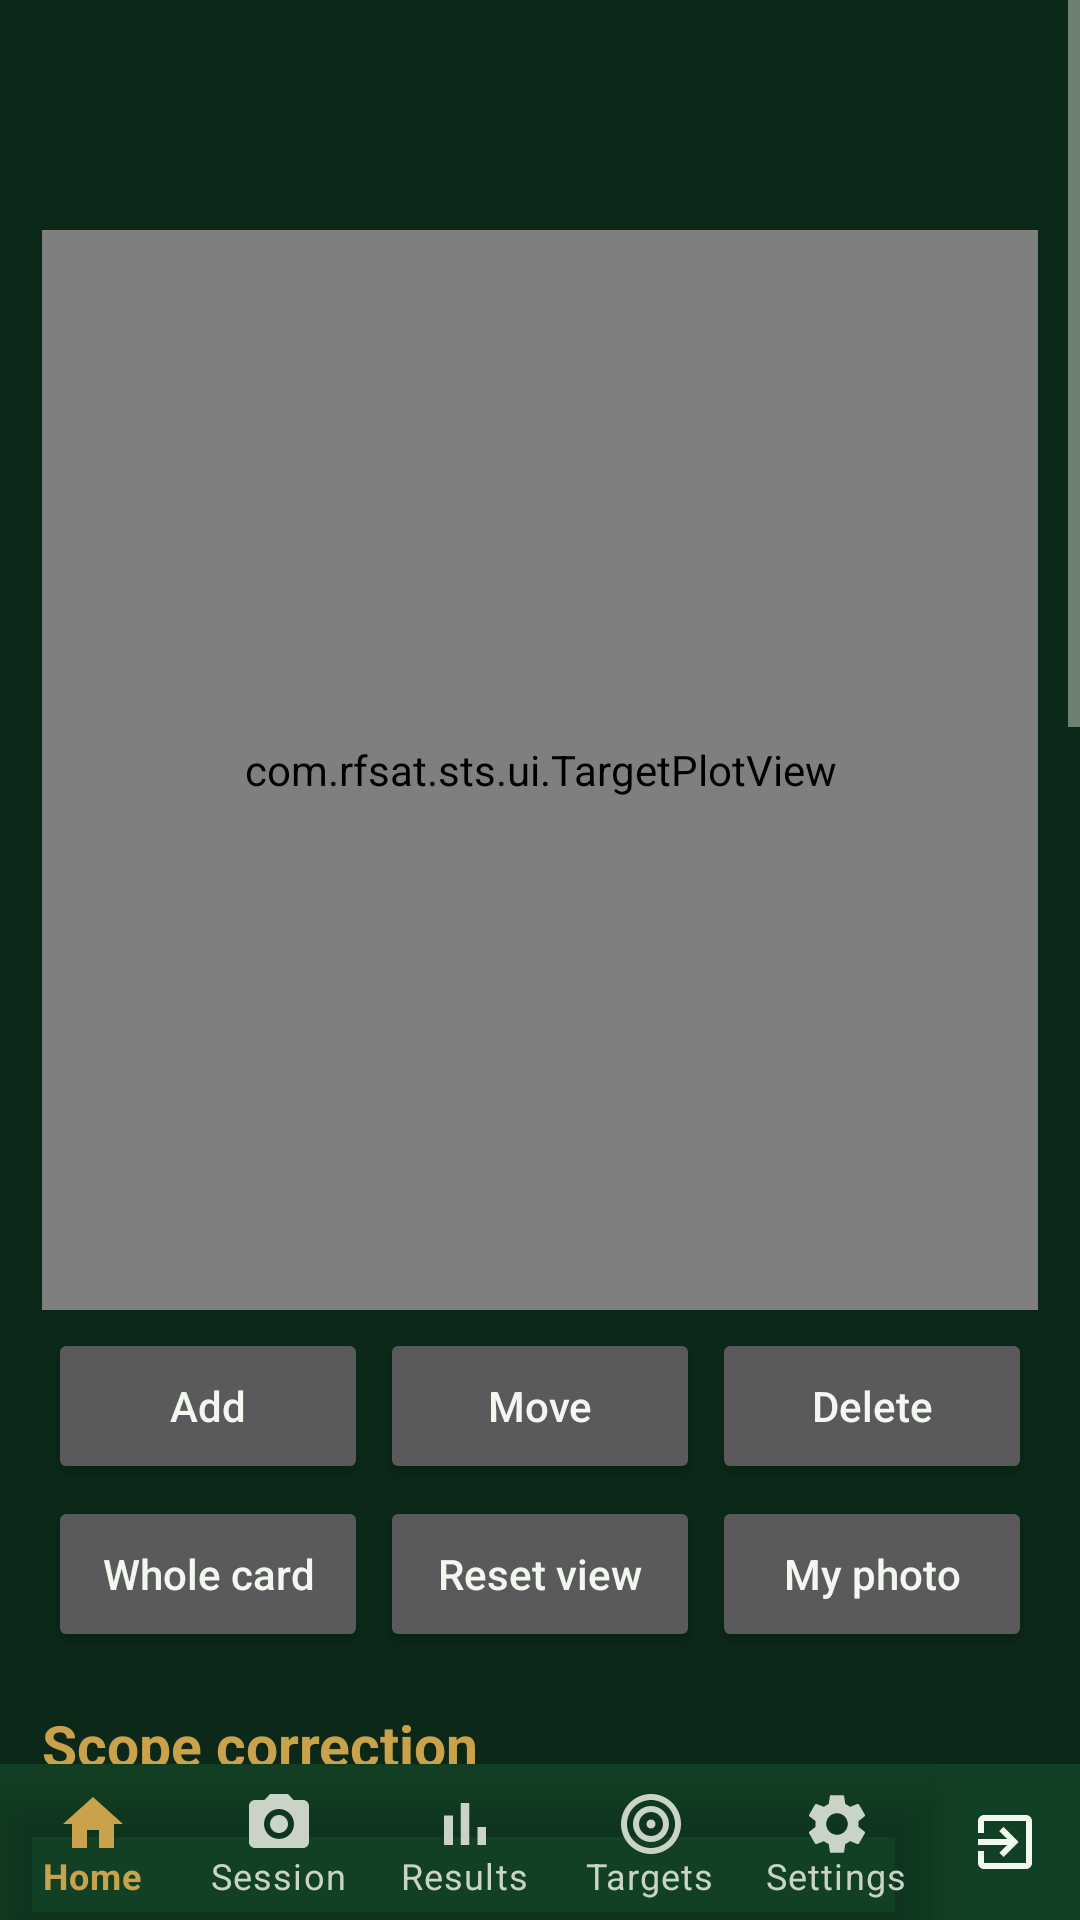

Screen size 1080×1920. Icon name, then its center in pixels as point (x, y):
exit: point (1005, 1842)
